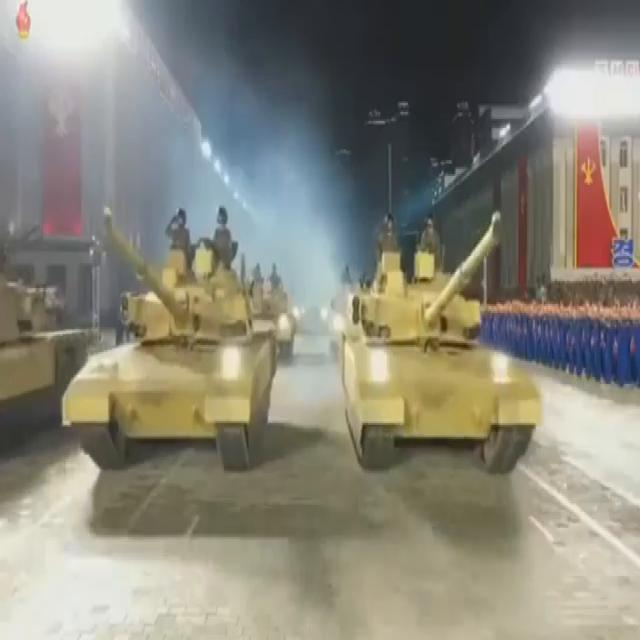north tank: (334, 190, 579, 508), (59, 185, 285, 505), (242, 230, 308, 366)
